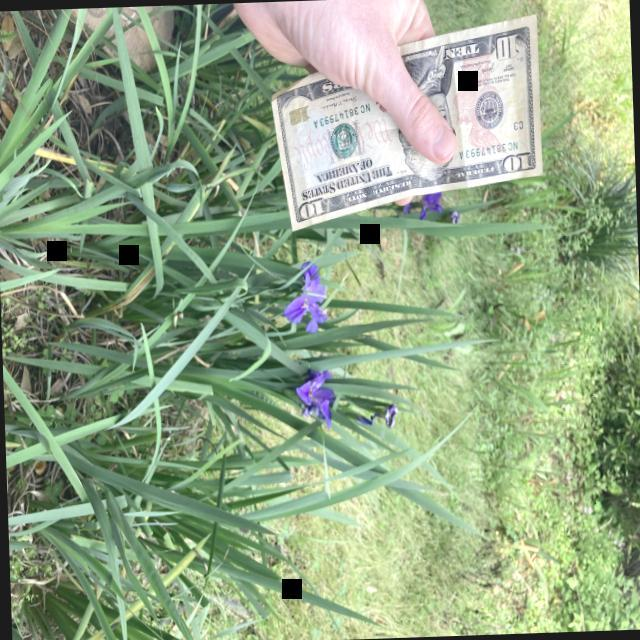ten: (268, 12, 542, 232)
